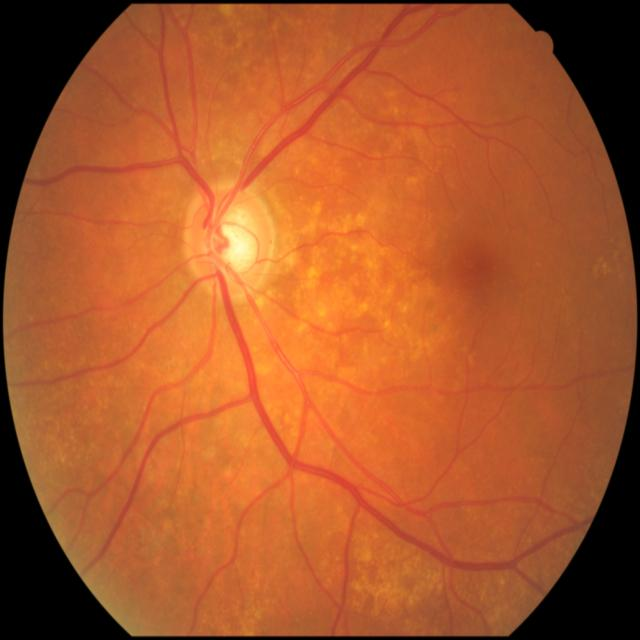OC: (212, 209, 260, 271)
OD: (184, 184, 276, 298)
